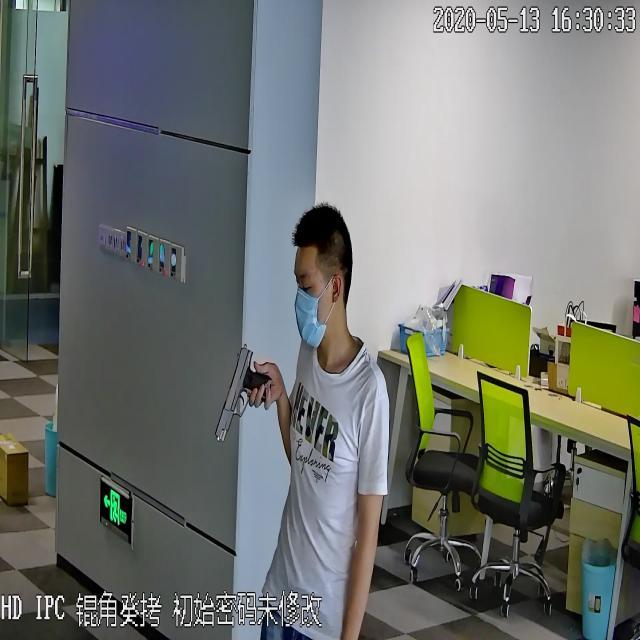gun: (211, 345, 274, 441)
